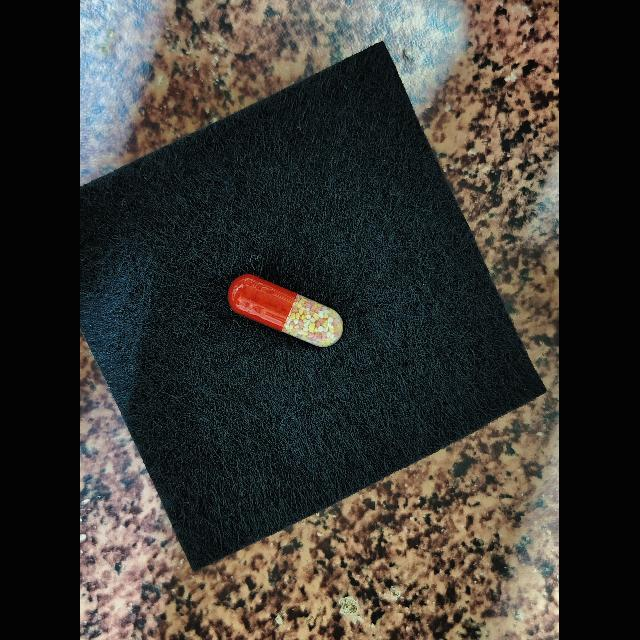Intact Capsule: (228, 274, 344, 347)
